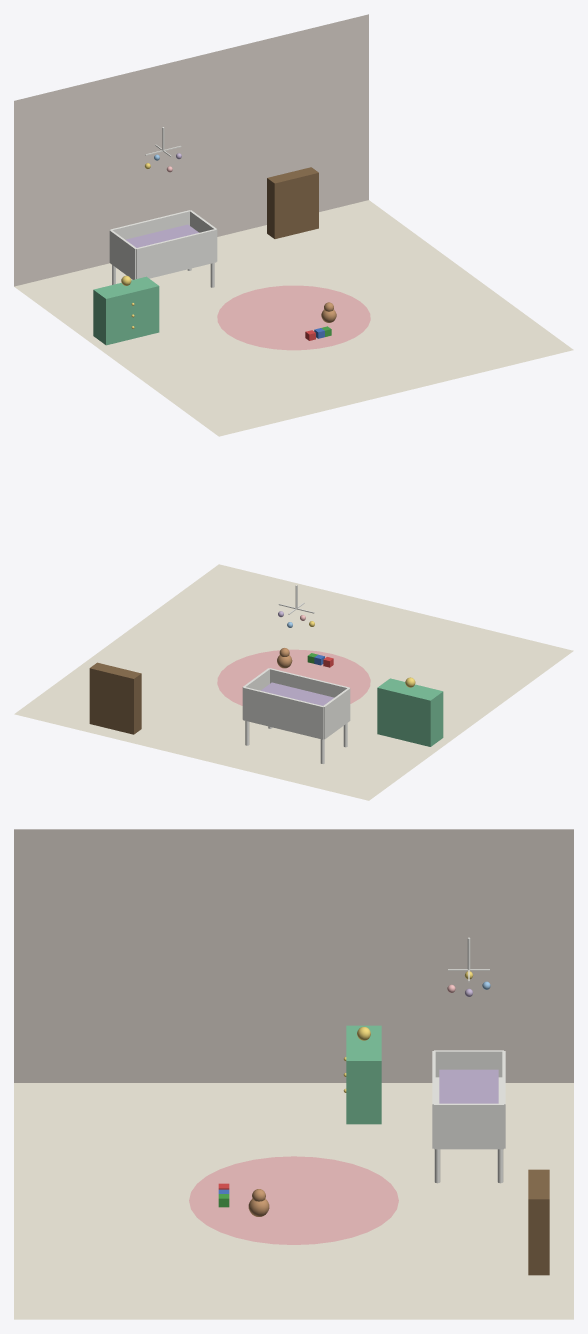
The model's file is ToddlerBedroom.glb.
3 views of the same model, one above another, from view 1: azimuth 30°, elevation 25°; view 2: azimuth 150°, elevation 25°; view 3: azimuth 270°, elevation 25° (orthographic). The views are drawn at different scales.
Parts seen in each view (by area): view 1: ToddlerBedroom, Crib, Dresser, Bookshelf; view 2: ToddlerBedroom, Crib, Dresser, Bookshelf; view 3: ToddlerBedroom, Crib, Dresser, Bookshelf.
Boxes of the visible parts, bbox=[...] form: ToddlerBedroom: bbox=[14, 14, 573, 436]; Crib: bbox=[109, 210, 217, 287]; Dresser: bbox=[93, 276, 159, 345]; Bookshelf: bbox=[267, 167, 318, 238]; ToddlerBedroom: bbox=[14, 564, 573, 800]; Crib: bbox=[242, 668, 350, 763]; Dresser: bbox=[377, 678, 443, 746]; Bookshelf: bbox=[89, 662, 141, 734]; ToddlerBedroom: bbox=[14, 829, 573, 1319]; Crib: bbox=[432, 1050, 505, 1183]; Dresser: bbox=[343, 1025, 381, 1124]; Bookshelf: bbox=[528, 1169, 549, 1275].
Bounding box in the file's own units: 8 × 4 × 8.
